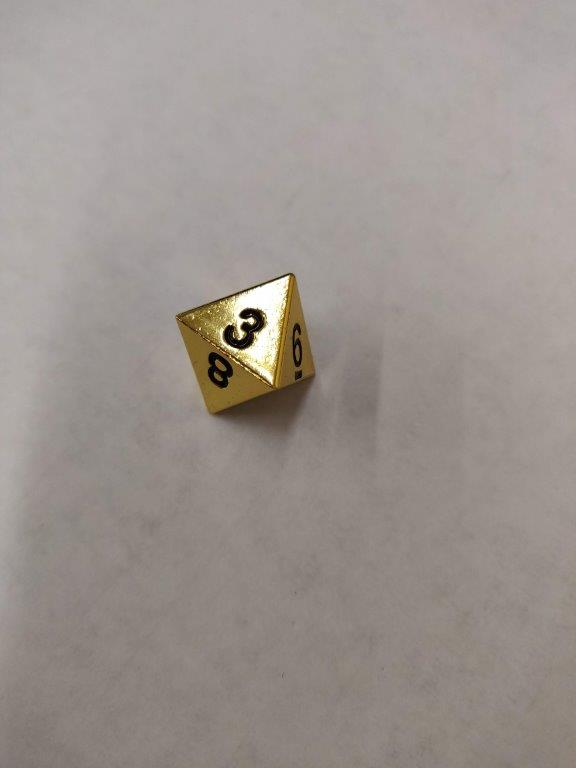d8-3: (173, 273, 314, 418)
